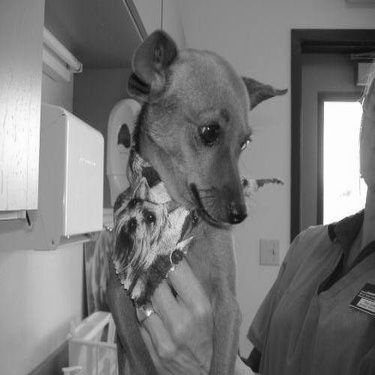dog: (79, 24, 294, 373)
